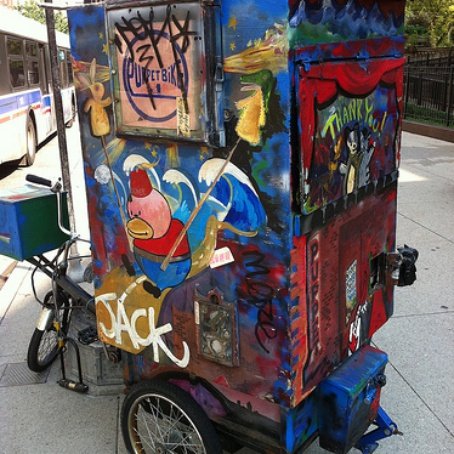graffiti: (79, 1, 409, 383)
